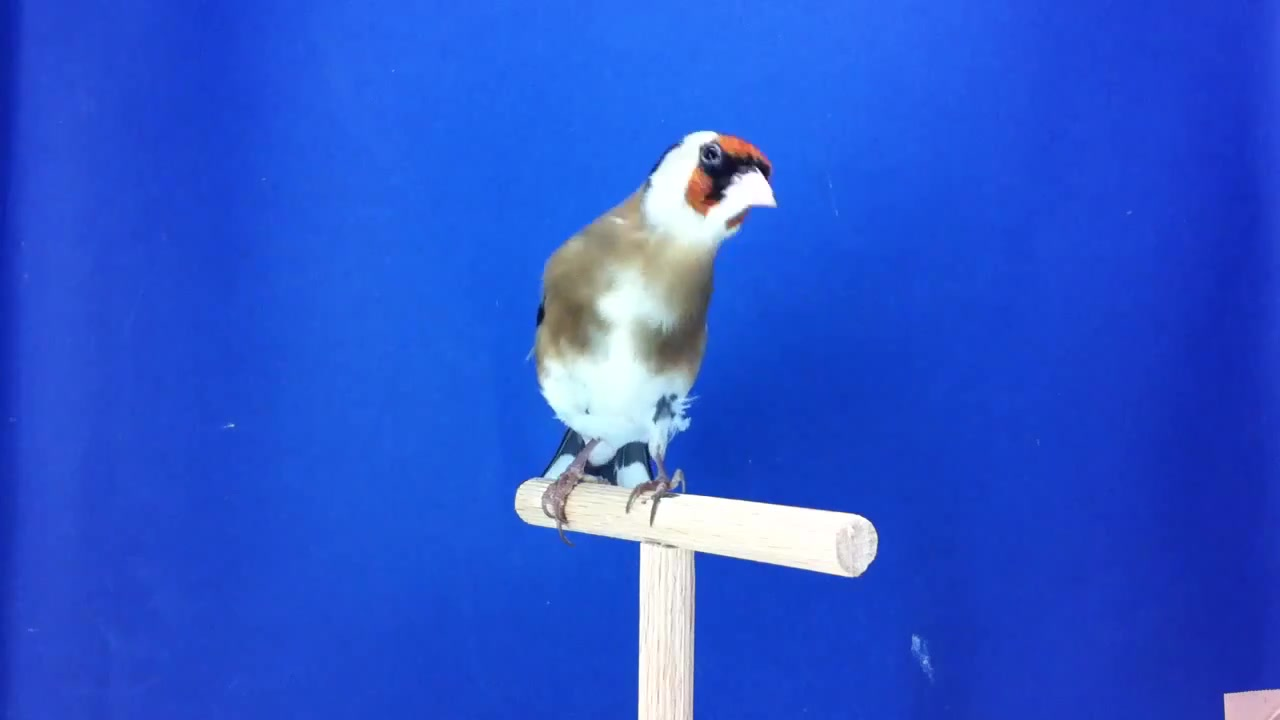bird: (527, 130, 784, 547)
